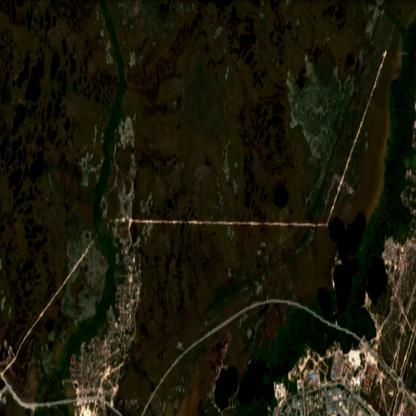oil: (170, 209, 191, 228)
